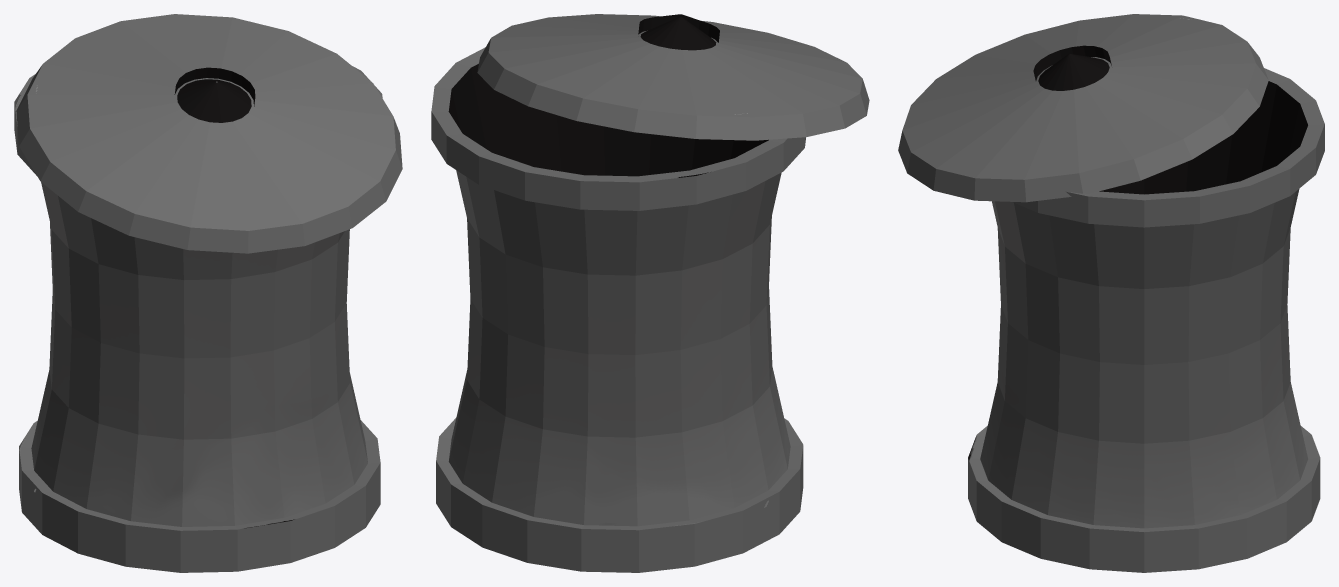
The model's file is TrahCan1.fbx.
3 renders of one model, left to right at view 1: azimuth 30°, elevation 25°; view 2: azimuth 150°, elevation 25°; view 3: azimuth 270°, elevation 25°, orthographic. The views are drawn at different scales.
Visible parts, largest first — view 1: TrashCan2; view 2: TrashCan2; view 3: TrashCan2.
Boxes of the visible parts, x1,y1,x2,y2 form: TrashCan2: (14,14,402,572); TrashCan2: (431,14,869,572); TrashCan2: (898,14,1324,572).
Size of the model in its own units: 150 by 184 by 163.
